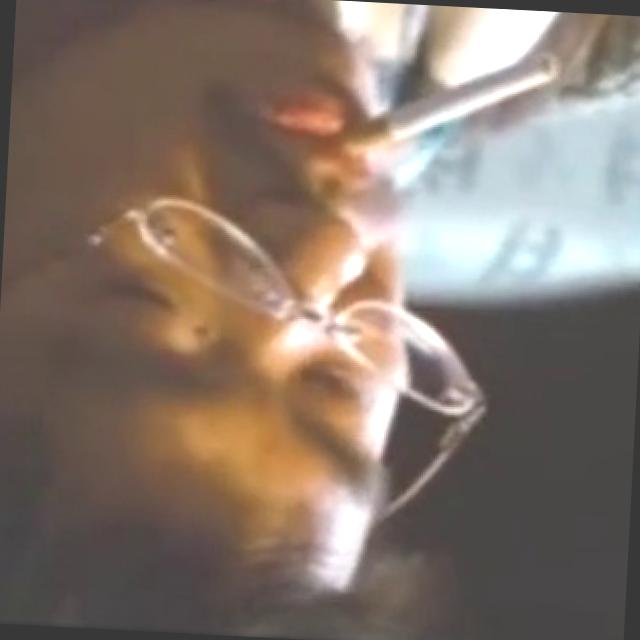smoke: (374, 46, 562, 161)
